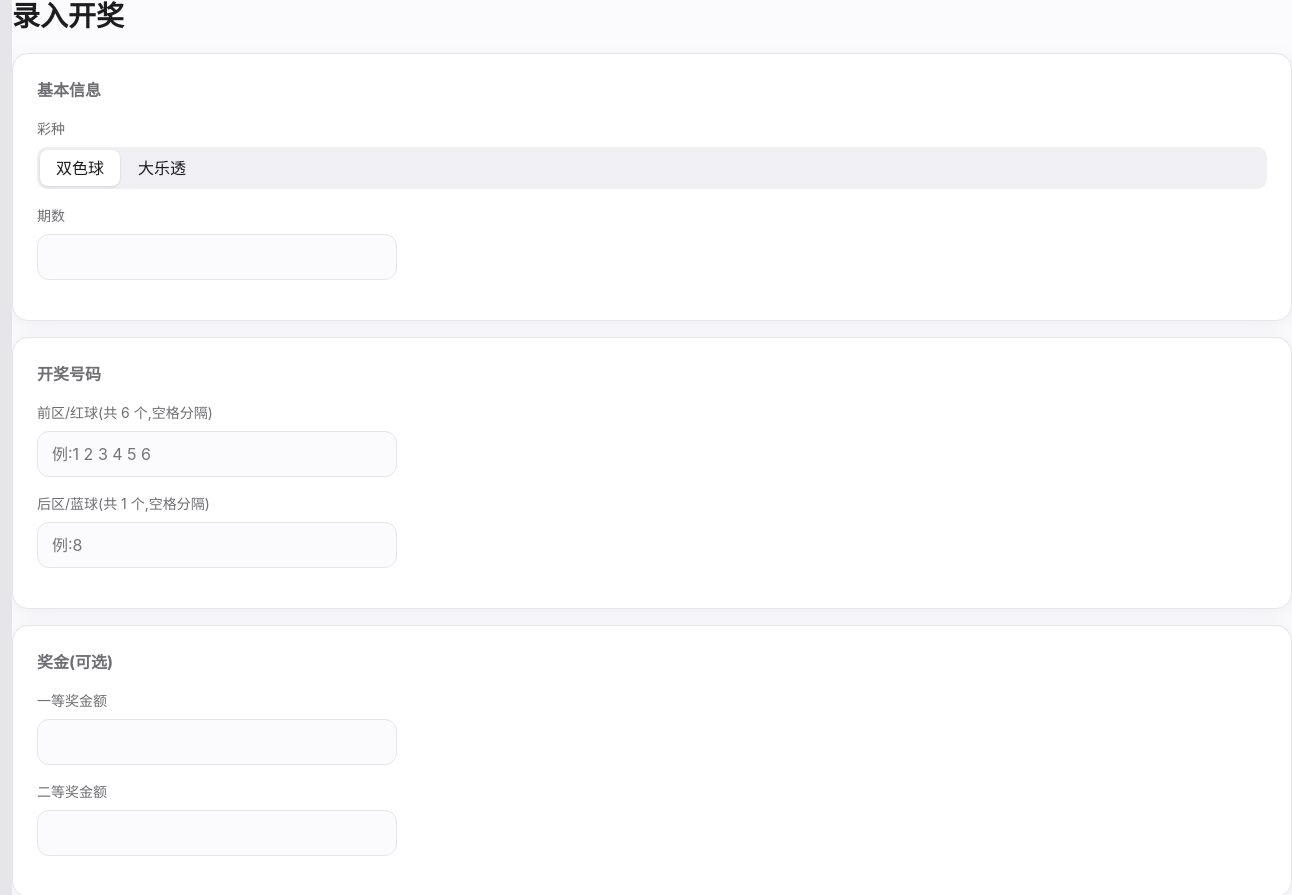
Test: DrawFormPage › 非法号码时报错且不提交
The width and height of the screenshot is (1292, 895).
Type "24001" into the field labelled "期数" at (217, 257), box [37, 234, 397, 280]
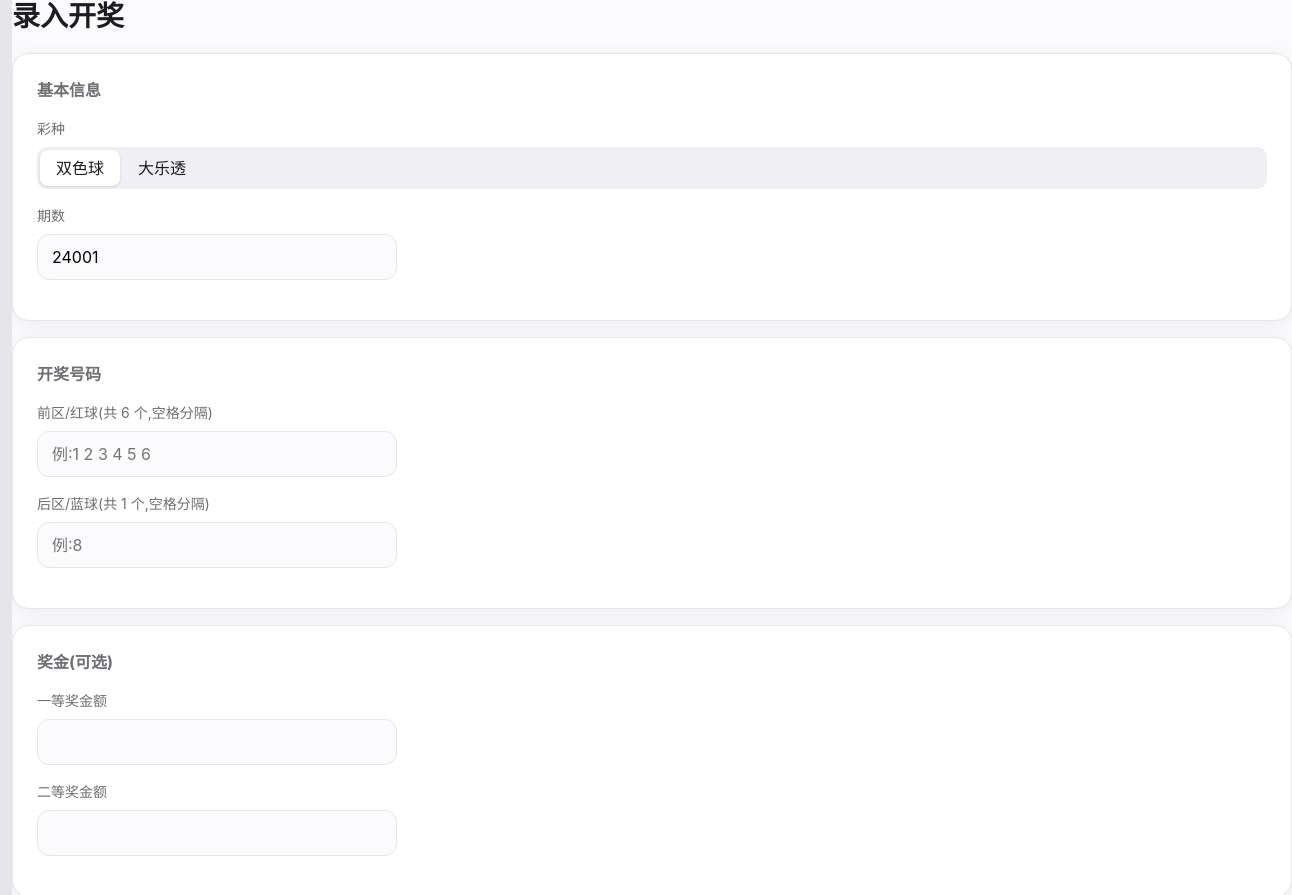
Type "1 2 3" into the field labelled "前区/红球" at (217, 454), box [37, 431, 397, 477]
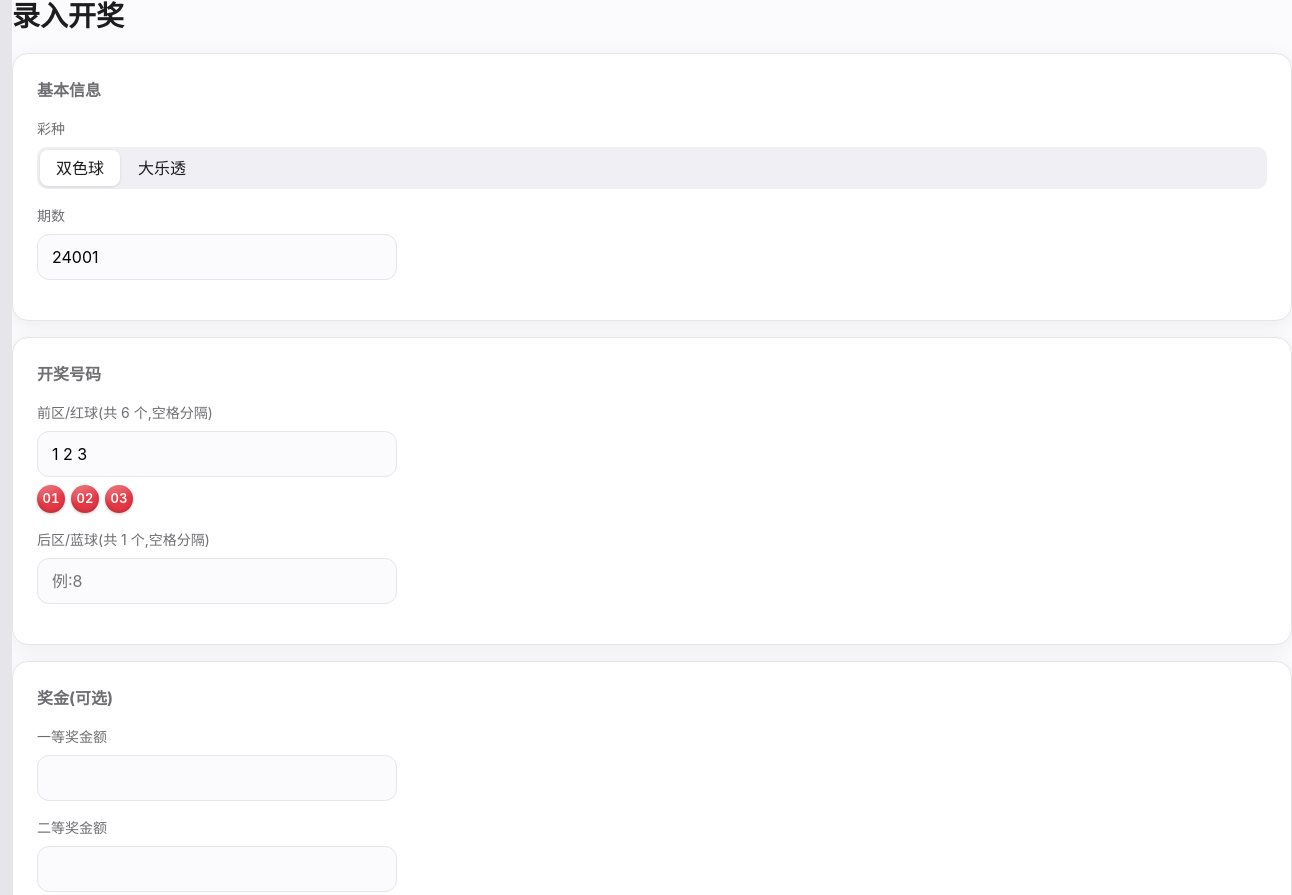
Type "16" into the field labelled "后区/蓝球" at (217, 581), box [37, 558, 397, 604]
(page scrolled)
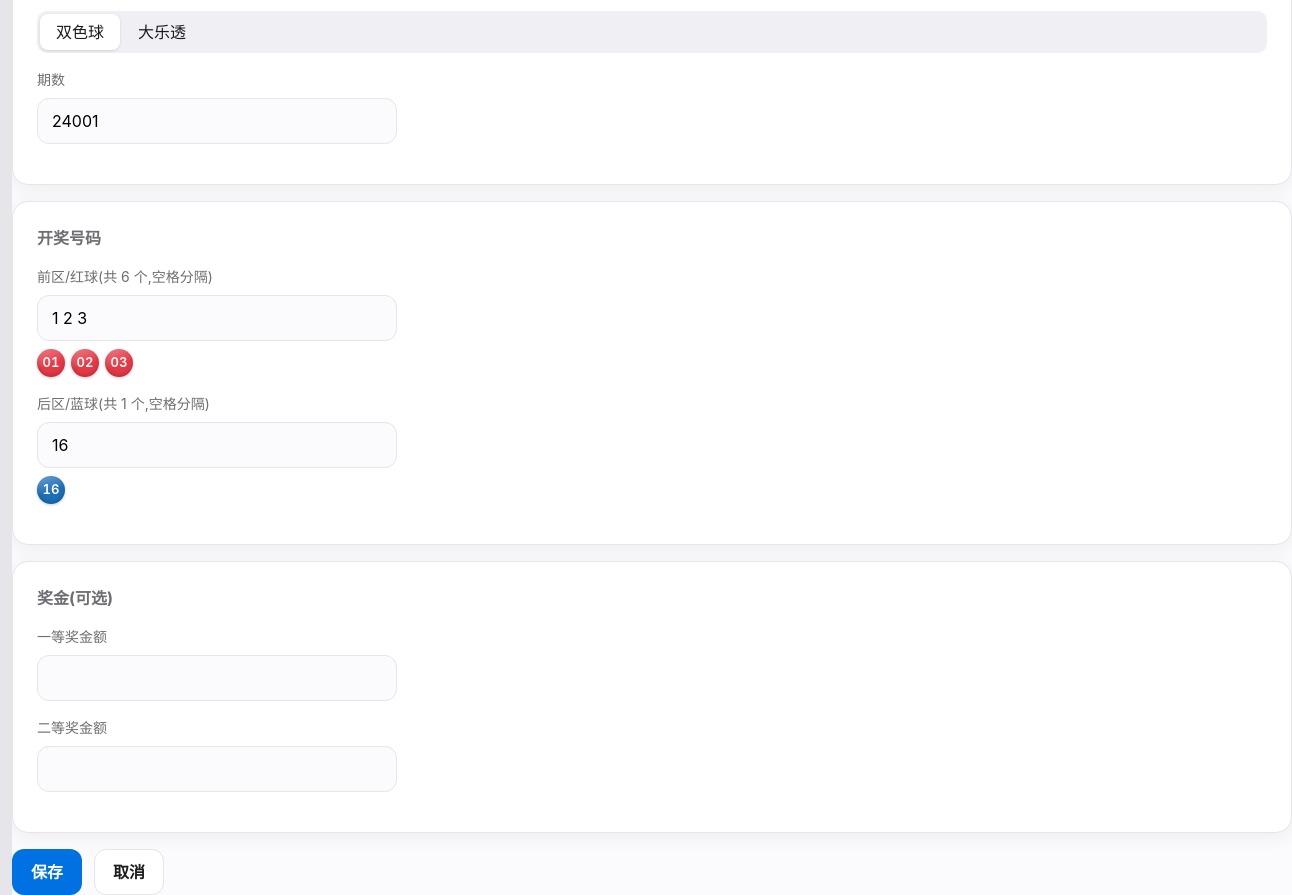
Click the button "保存" at (47, 872), box [12, 849, 82, 894]
(page scrolled)
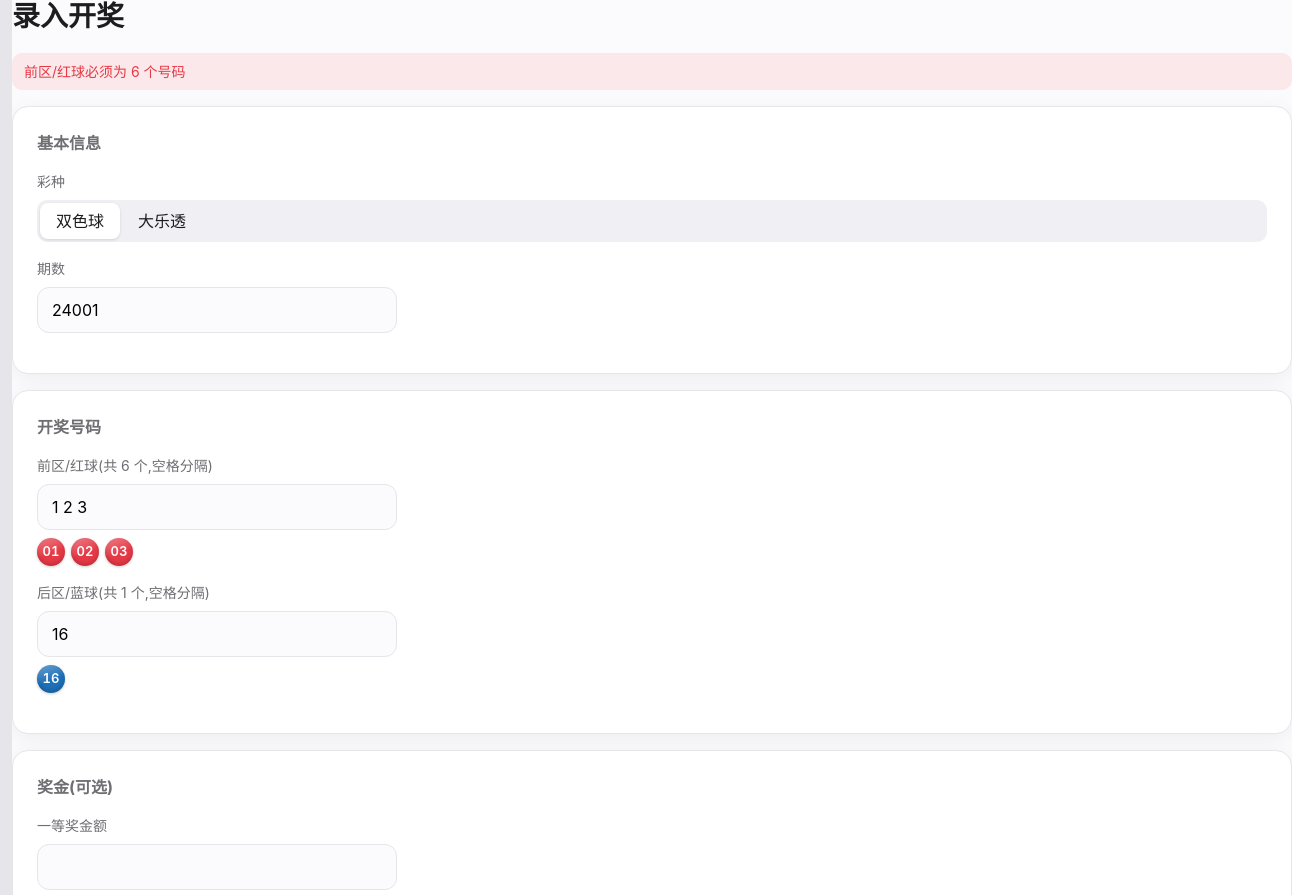
Result: the message is shown at [12, 53, 1291, 90]
